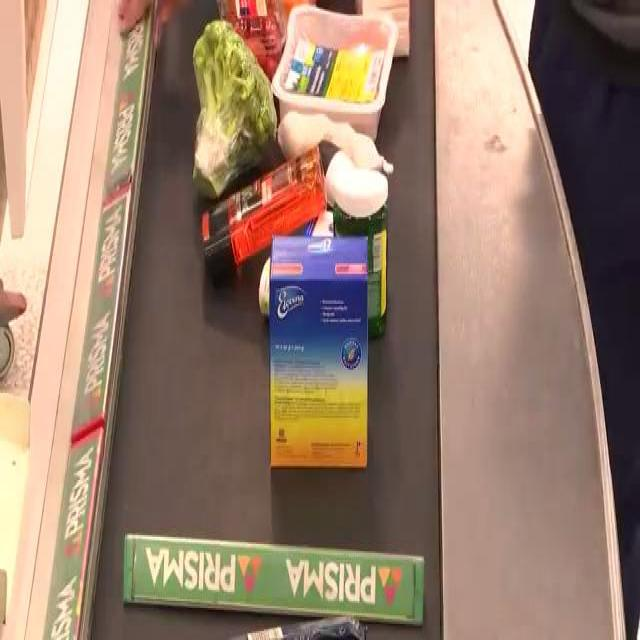food-box: (277, 4, 398, 124), (335, 164, 386, 332), (278, 112, 396, 174)
fruit: (223, 0, 290, 75)
utility-box: (268, 237, 368, 471), (202, 142, 326, 272)
vegetable: (196, 24, 274, 186)
